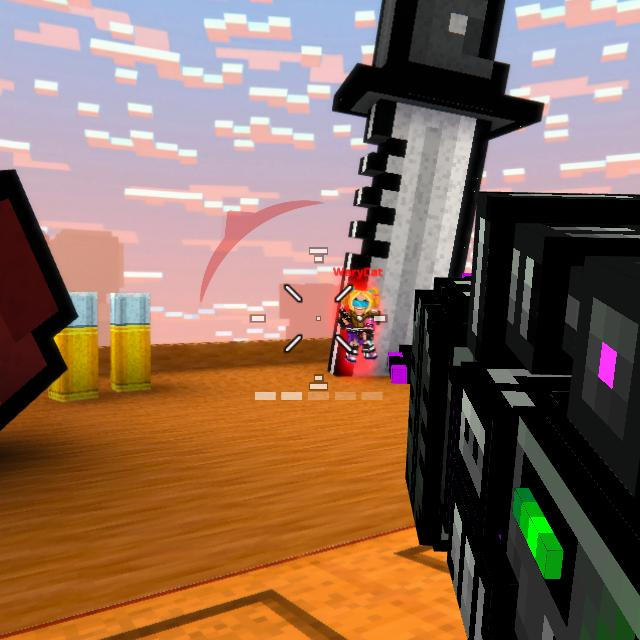Enemy: (336, 290, 381, 364)
